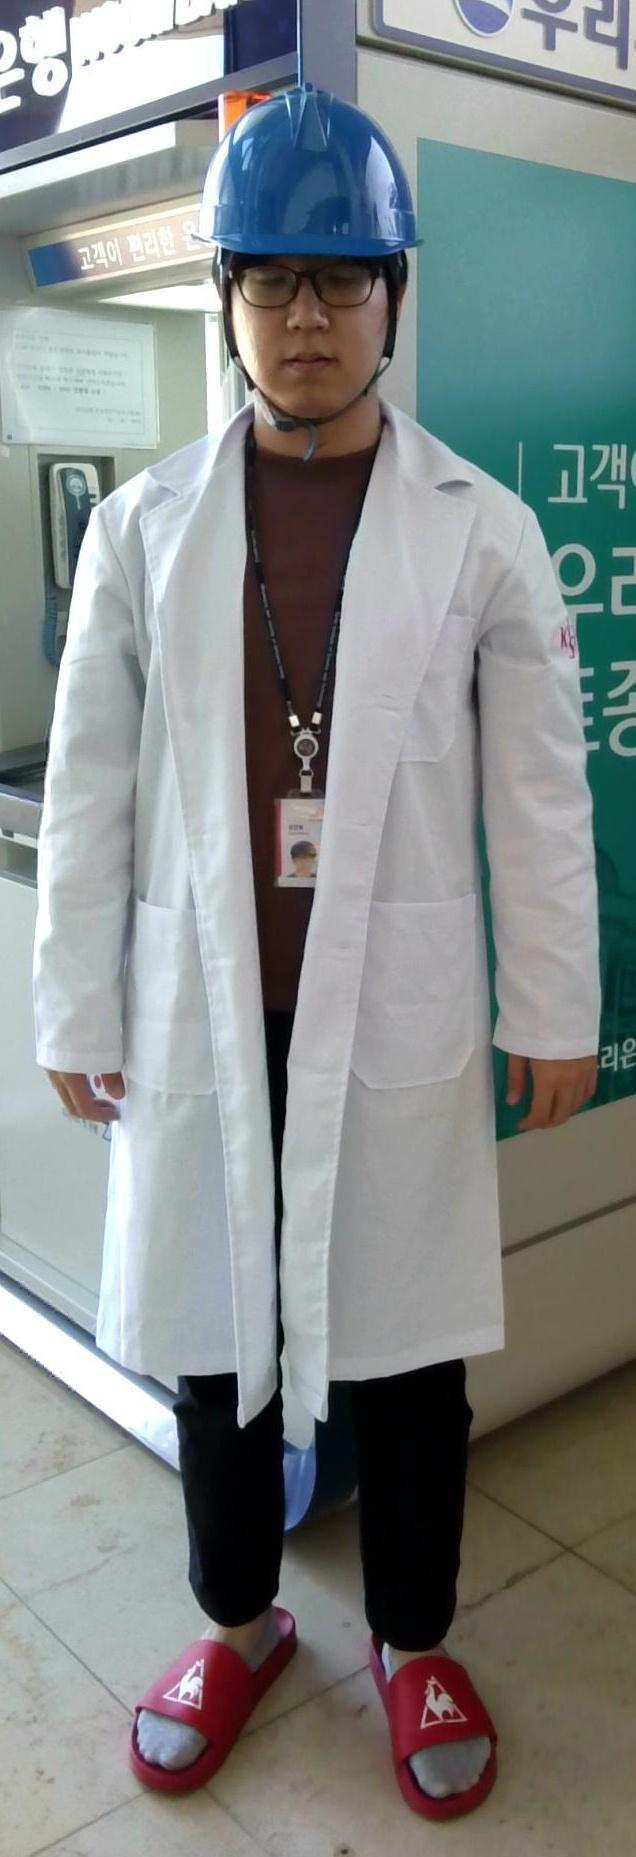lab_coat: (113, 464, 514, 1368)
